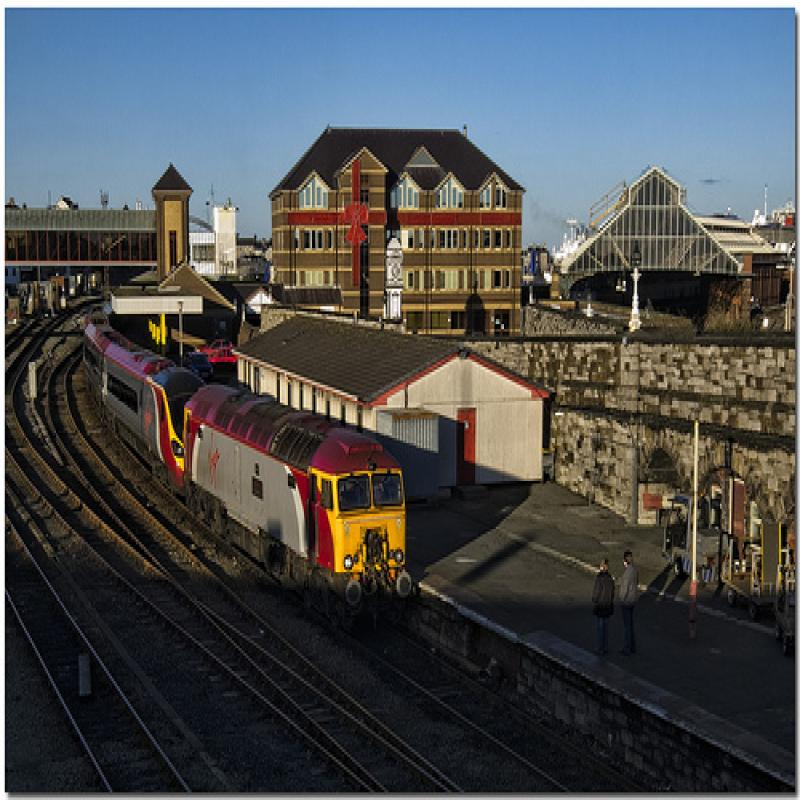train: (81, 318, 414, 614)
